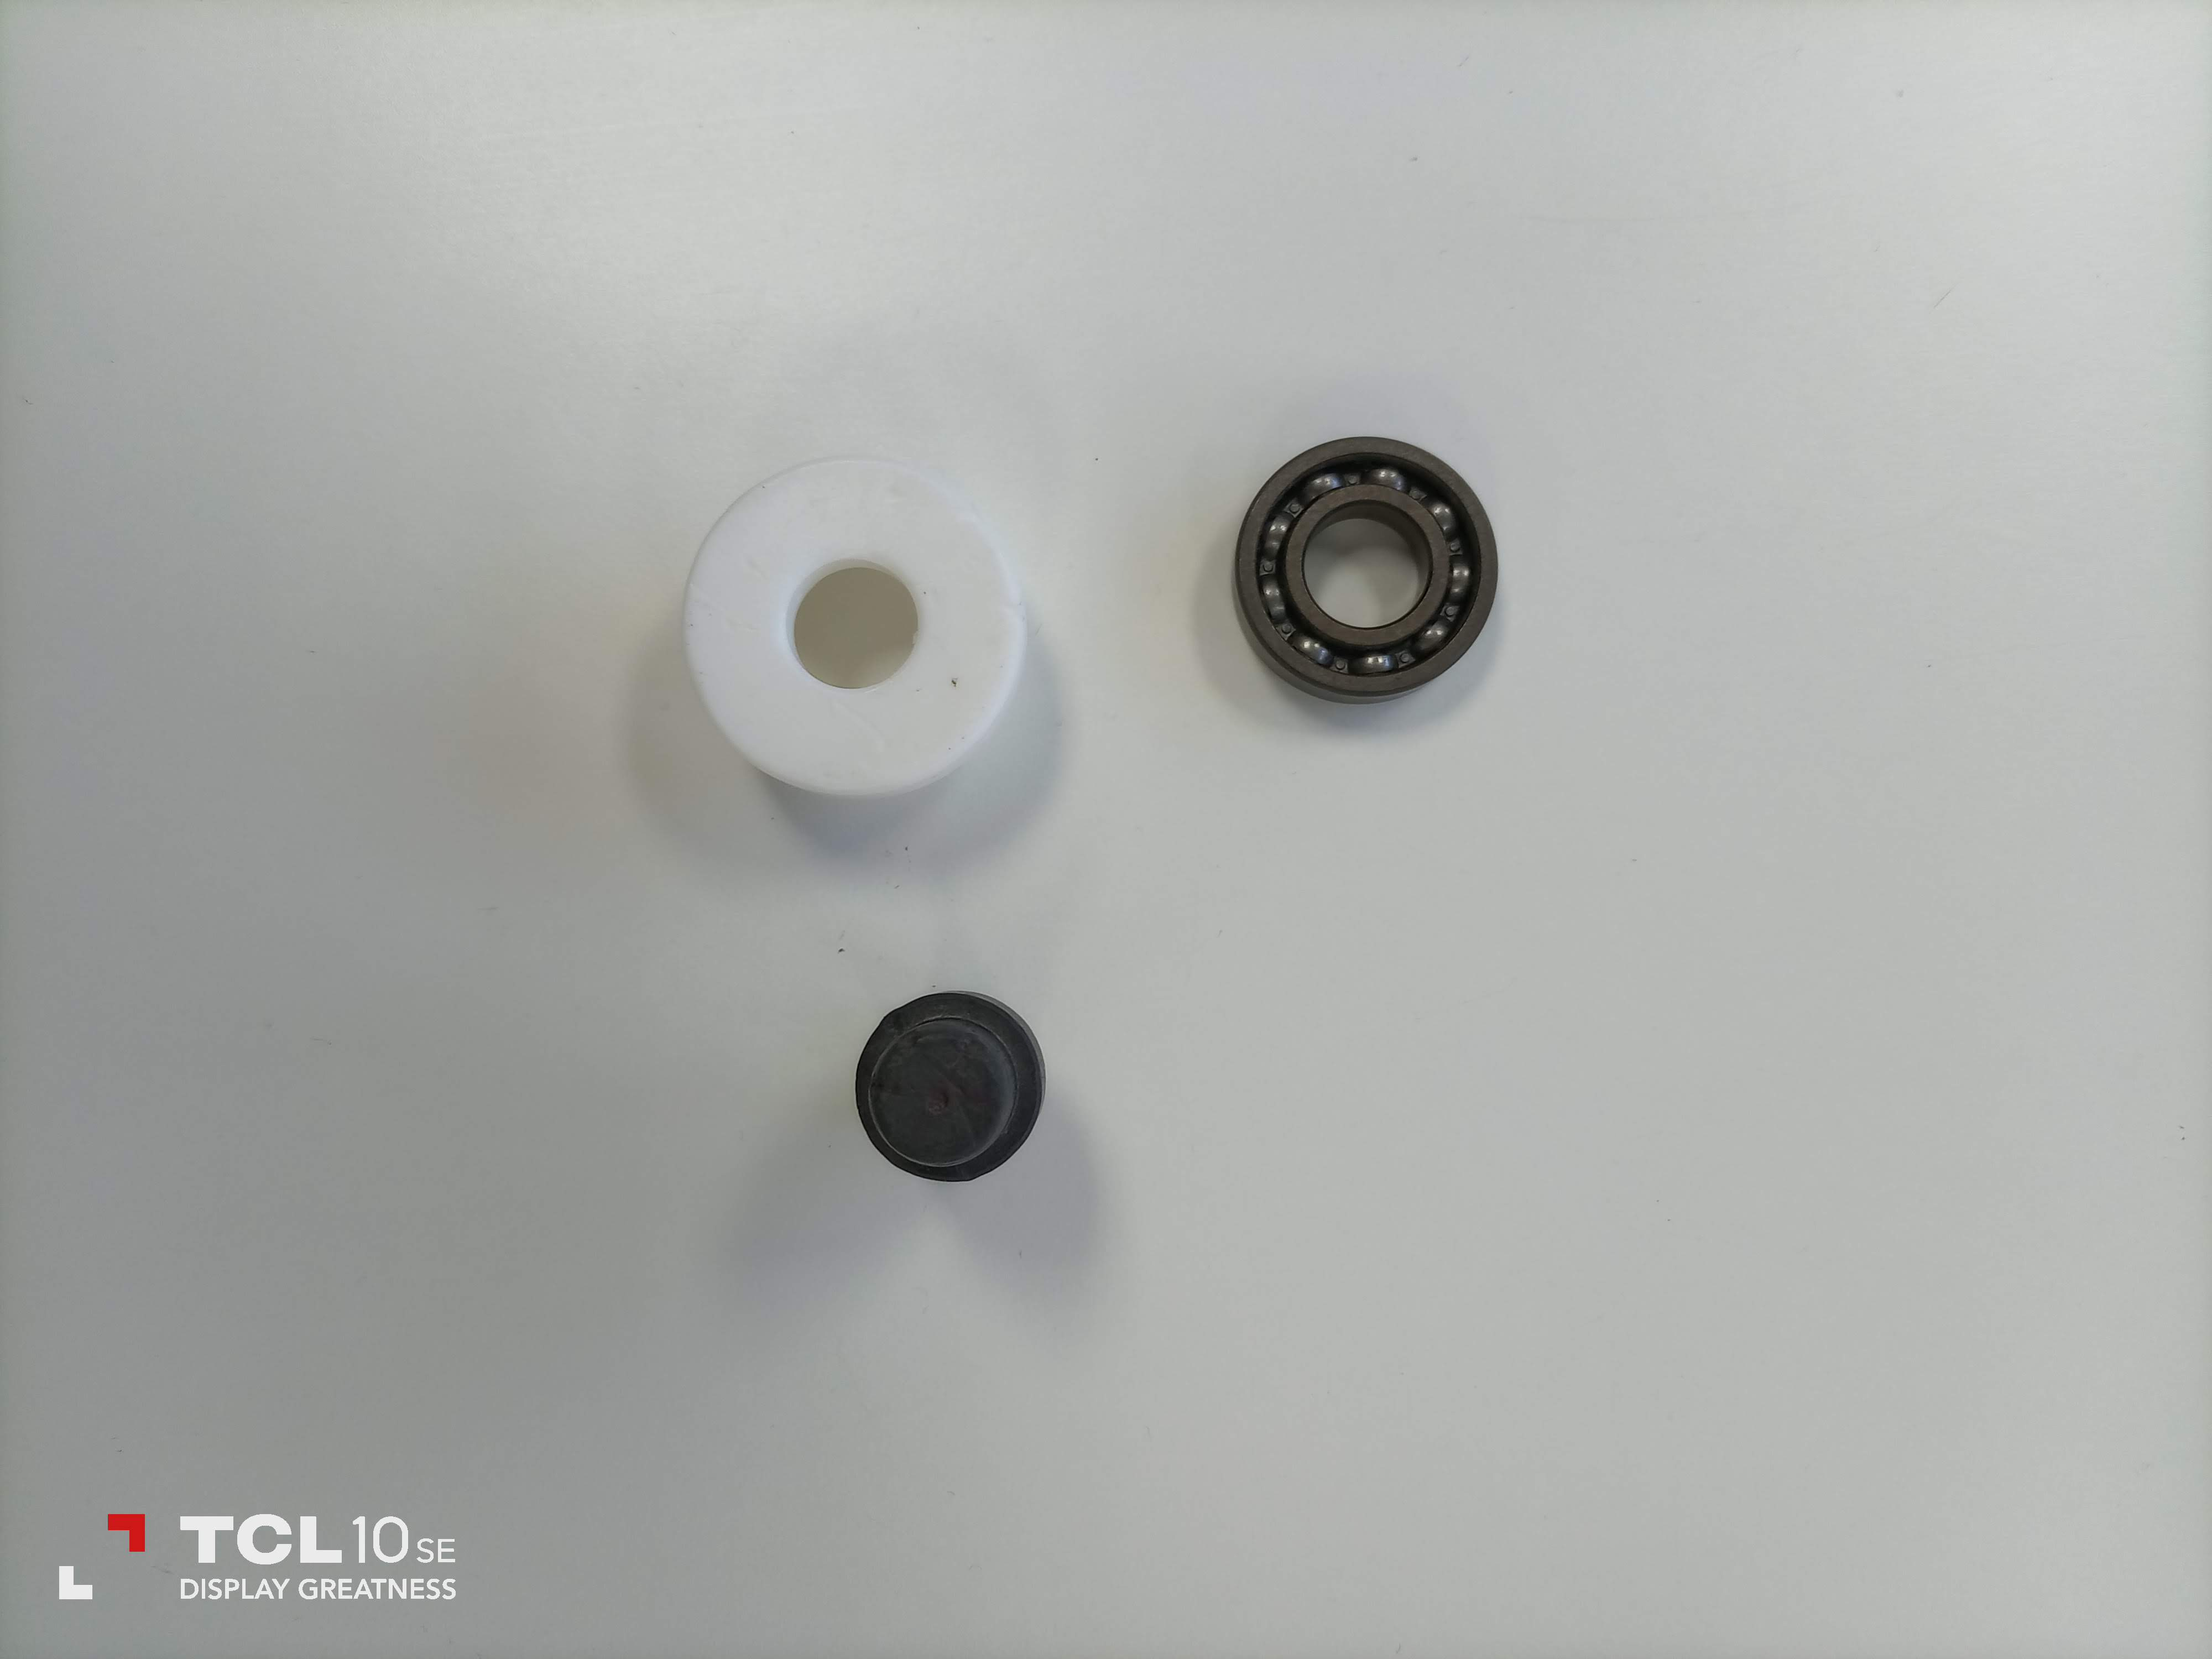Ardatza: (855, 993, 1045, 1188)
Roda: (1230, 437, 1491, 708)
Tapa: (683, 448, 1031, 810)
